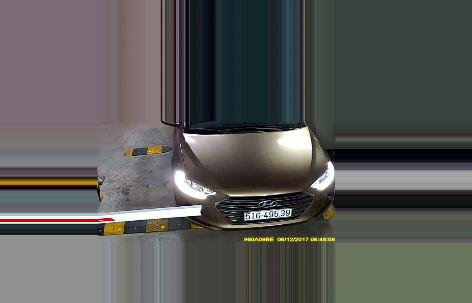plate: (240, 204, 293, 220)
